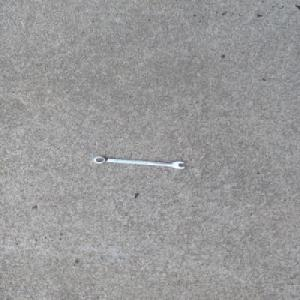Wrench: (91, 155, 186, 170)
